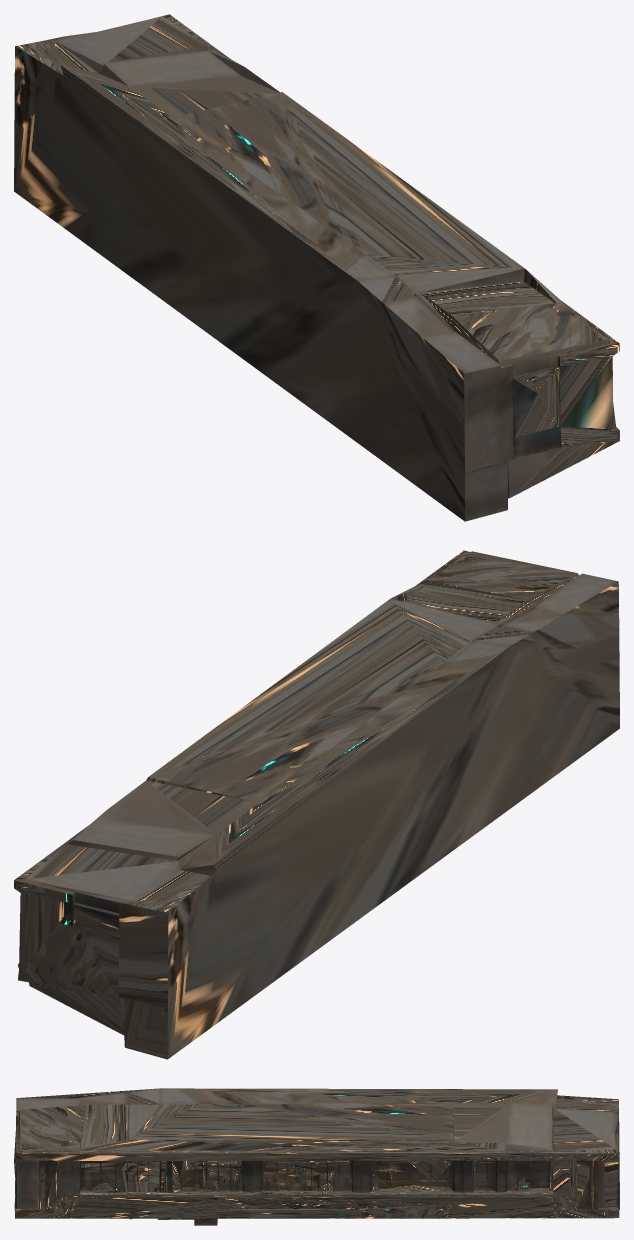
File: u01_far.glb
3 views of the same model, one above another, from view 1: azimuth 30°, elevation 25°; view 2: azimuth 150°, elevation 25°; view 3: azimuth 270°, elevation 25° (orthographic). The views are drawn at different scales.
Parts seen in each view (by area): view 1: u01_far; view 2: u01_far; view 3: u01_far.
Boxes of the visible parts, x1,y1,x2,y2 form: u01_far: [14, 14, 619, 521]; u01_far: [14, 550, 619, 1059]; u01_far: [14, 1088, 619, 1225].
Bounding box in the file's own units: 5.73 × 6 × 28.81.
1 material, 1 textured.
